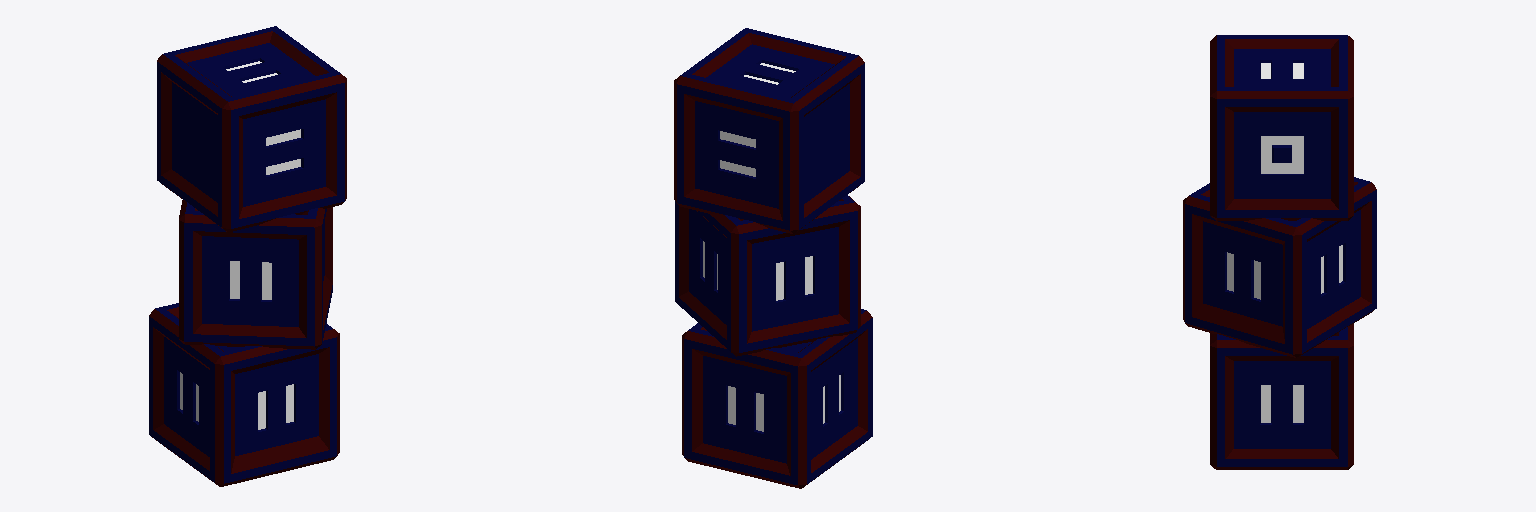
File: obstaculos.obj
The picture shows the model from 3 angles: view 1: azimuth 30°, elevation 25°; view 2: azimuth 150°, elevation 25°; view 3: azimuth 270°, elevation 25°; orthographic projection.
Visible parts, largest first — view 1: group1 pCube121, caja:pCube120 group1, group1 pCube120; view 2: group1 pCube121, caja:pCube120 group1, group1 pCube120; view 3: group1 pCube121, group1 pCube120, caja:pCube120 group1.
Part boxes in pixels (bbox=[...]): group1 pCube121: bbox=[157, 26, 346, 232]; caja:pCube120 group1: bbox=[149, 303, 339, 486]; group1 pCube120: bbox=[179, 200, 332, 349]; group1 pCube121: bbox=[674, 28, 864, 233]; caja:pCube120 group1: bbox=[682, 309, 872, 488]; group1 pCube120: bbox=[675, 195, 860, 356]; group1 pCube121: bbox=[1210, 35, 1353, 220]; group1 pCube120: bbox=[1183, 177, 1376, 357]; caja:pCube120 group1: bbox=[1210, 324, 1353, 469].
Size of the model in its own units: 1.34 by 2.93 by 1.34.